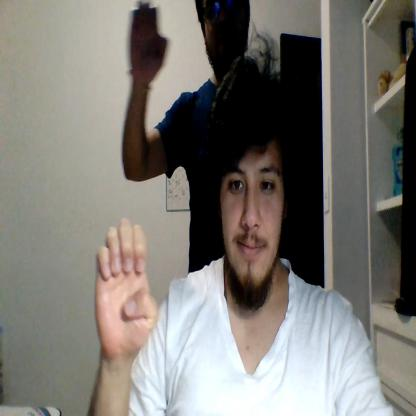E: (94, 217, 158, 357)
